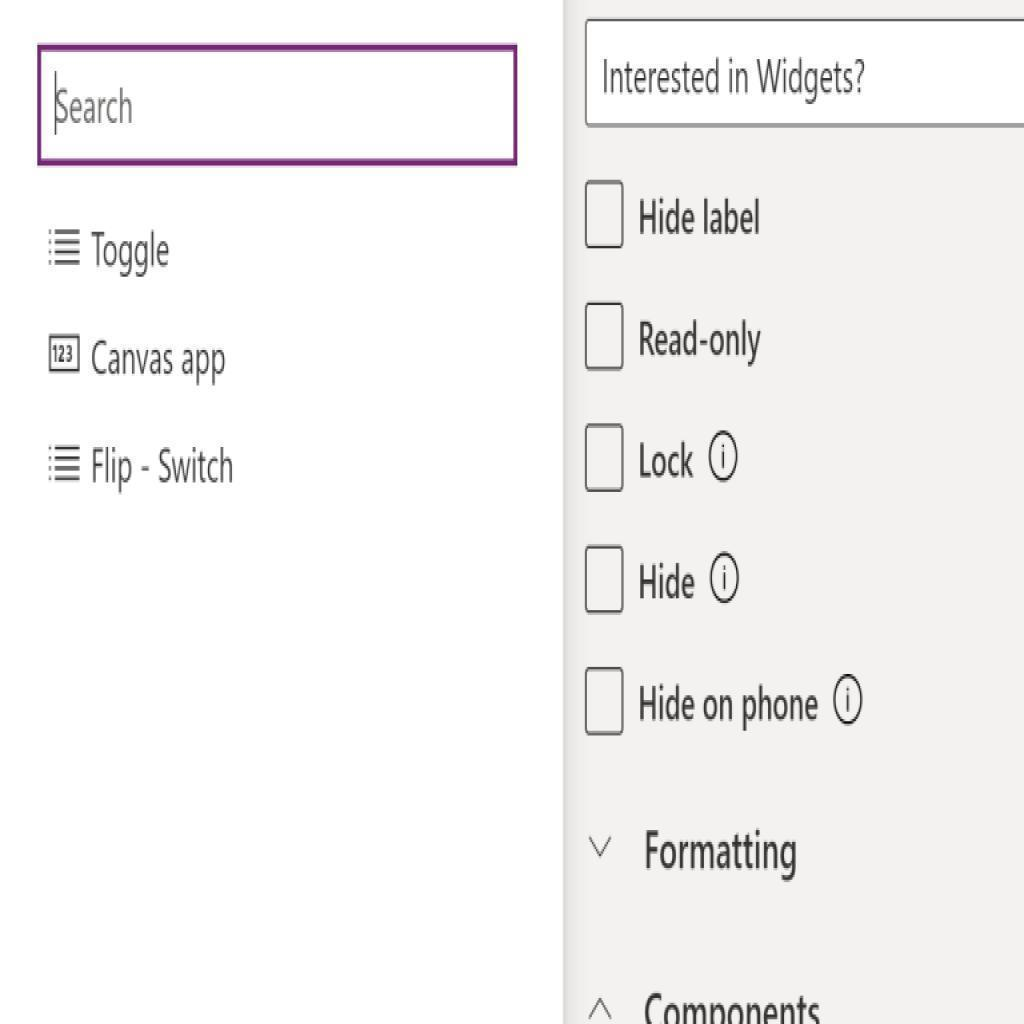checkbox: (584, 301, 625, 370), (584, 665, 622, 735), (583, 544, 621, 613), (584, 183, 624, 248), (586, 423, 621, 492)
icon: (42, 432, 87, 488), (44, 221, 86, 275), (40, 334, 85, 382)
input: (35, 44, 517, 166), (586, 18, 1022, 127)
